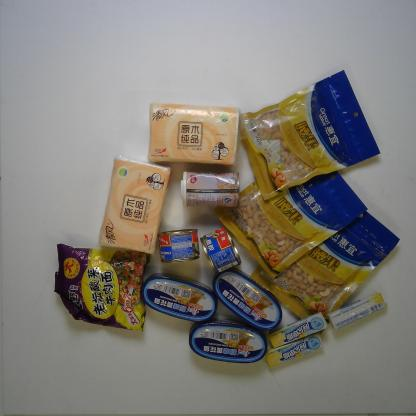Candy: (326, 291, 387, 331), (268, 312, 328, 349), (264, 332, 325, 368)
Canned Food: (212, 267, 283, 332), (187, 318, 267, 364), (142, 273, 218, 321), (179, 171, 240, 209), (200, 225, 242, 274), (157, 228, 200, 264)
Dried Fruit: (238, 67, 381, 204), (246, 210, 401, 326), (211, 169, 368, 282)
Instant Noodles: (54, 242, 152, 332)
Tissue: (96, 153, 174, 256), (145, 101, 241, 166)
